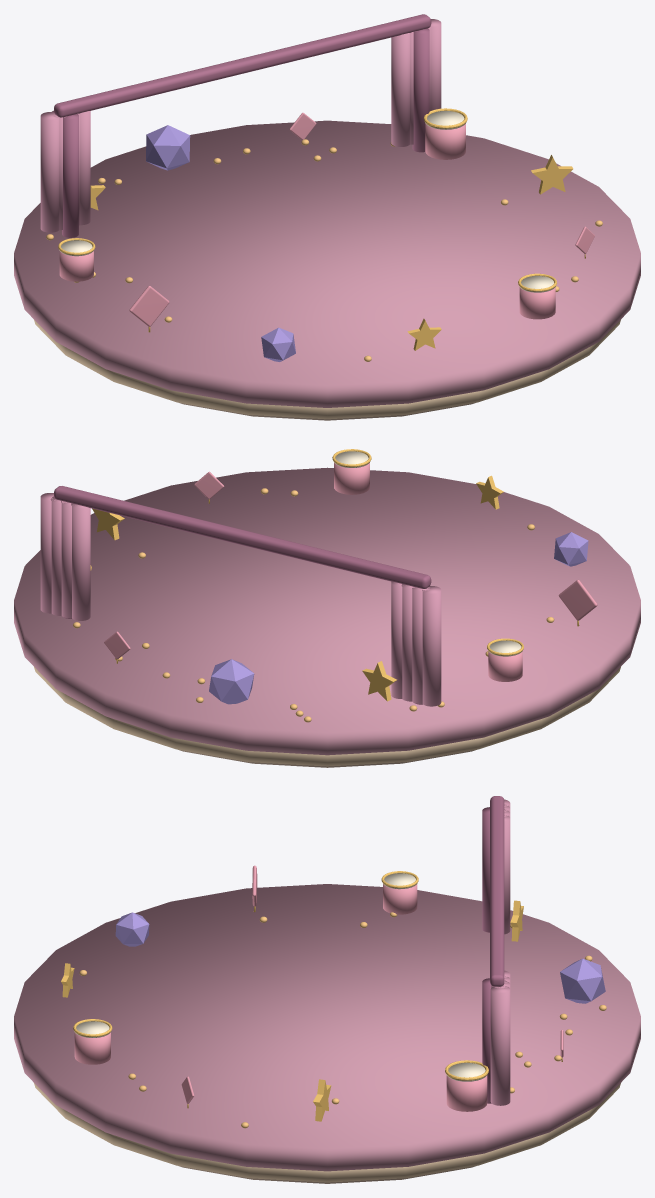
Rendered from world.glb.
The picture shows the model from 3 angles, top to bottom: view 1: azimuth 30°, elevation 25°; view 2: azimuth 150°, elevation 25°; view 3: azimuth 270°, elevation 25°; orthographic projection.
Visible parts, largest first — view 1: Cone, Cone.001, Cube, Cone.004, Cone.009, drum.001, Cone.003, Cone.008, gem.001, drum.003, drum.002, Cone.007 (+4 smaller); view 2: Cone, Cone.001, Cube, Cone.004, Cone.009, drum.003, gem.001, drum.002, Cone.012, Cone.007, Cone.005, Cone.011 (+9 smaller); view 3: Cone, Cone.001, Cube, Cone.012, drum.001, drum.003, gem.001, drum.002, Cone.003, gem.002, Cone.008, Cone.007.
Boxes of the visible parts, x1=… form: Cone: x1=14, y1=120, x2=640, y2=407; Cone.001: x1=34, y1=320, x2=620, y2=419; Cube: x1=54, y1=14, x2=431, y2=117; Cone.004: x1=40, y1=112, x2=59, y2=232; Cone.009: x1=391, y1=33, x2=409, y2=146; drum.001: x1=423, y1=108, x2=467, y2=159; Cone.003: x1=62, y1=114, x2=78, y2=237; Cone.008: x1=412, y1=28, x2=429, y2=152; gem.001: x1=146, y1=125, x2=190, y2=170; drum.003: x1=518, y1=273, x2=557, y2=319; drum.002: x1=58, y1=238, x2=95, y2=281; Cone.007: x1=79, y1=111, x2=90, y2=225; Cone: x1=14, y1=467, x2=640, y2=755; Cone.001: x1=34, y1=667, x2=620, y2=766; Cube: x1=54, y1=486, x2=431, y2=588; Cone.004: x1=422, y1=586, x2=441, y2=706; Cone.009: x1=71, y1=503, x2=90, y2=620; drum.003: x1=332, y1=449, x2=371, y2=494; gem.001: x1=209, y1=659, x2=254, y2=704; drum.002: x1=487, y1=638, x2=523, y2=681; Cone.012: x1=40, y1=493, x2=55, y2=613; Cone.007: x1=391, y1=581, x2=402, y2=698; Cone.005: x1=412, y1=586, x2=429, y2=703; Cone.011: x1=50, y1=496, x2=66, y2=615; Cone: x1=14, y1=884, x2=640, y2=1171; Cone.001: x1=34, y1=1083, x2=620, y2=1182; Cube: x1=490, y1=796, x2=504, y2=986; Cone.012: x1=490, y1=985, x2=510, y2=1105; drum.001: x1=445, y1=1060, x2=488, y2=1111; drum.003: x1=73, y1=1019, x2=112, y2=1064; gem.001: x1=560, y1=958, x2=605, y2=1003; drum.002: x1=381, y1=871, x2=418, y2=914; Cone.003: x1=482, y1=807, x2=489, y2=932; gem.002: x1=115, y1=912, x2=149, y2=946; Cone.008: x1=482, y1=978, x2=491, y2=1103; Cone.007: x1=504, y1=815, x2=510, y2=934.
Size of the model in its own units: 9.6 by 2.98 by 9.6.
